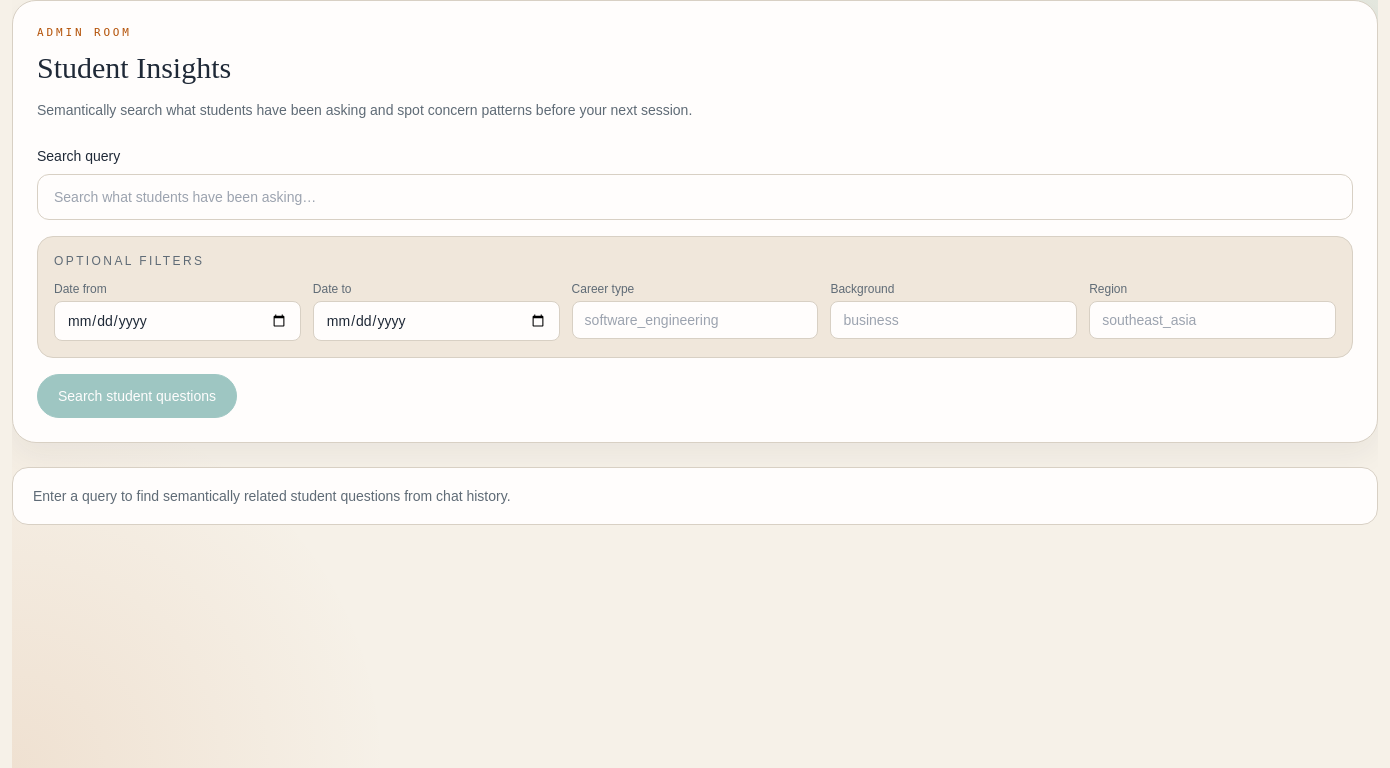
it: StudentInsightsTab › renders result cards with provenance and chips
Type "product interview prep" into the field labelled "Search query" at (695, 196), box x1=37 y1=174 x2=1353 y2=220
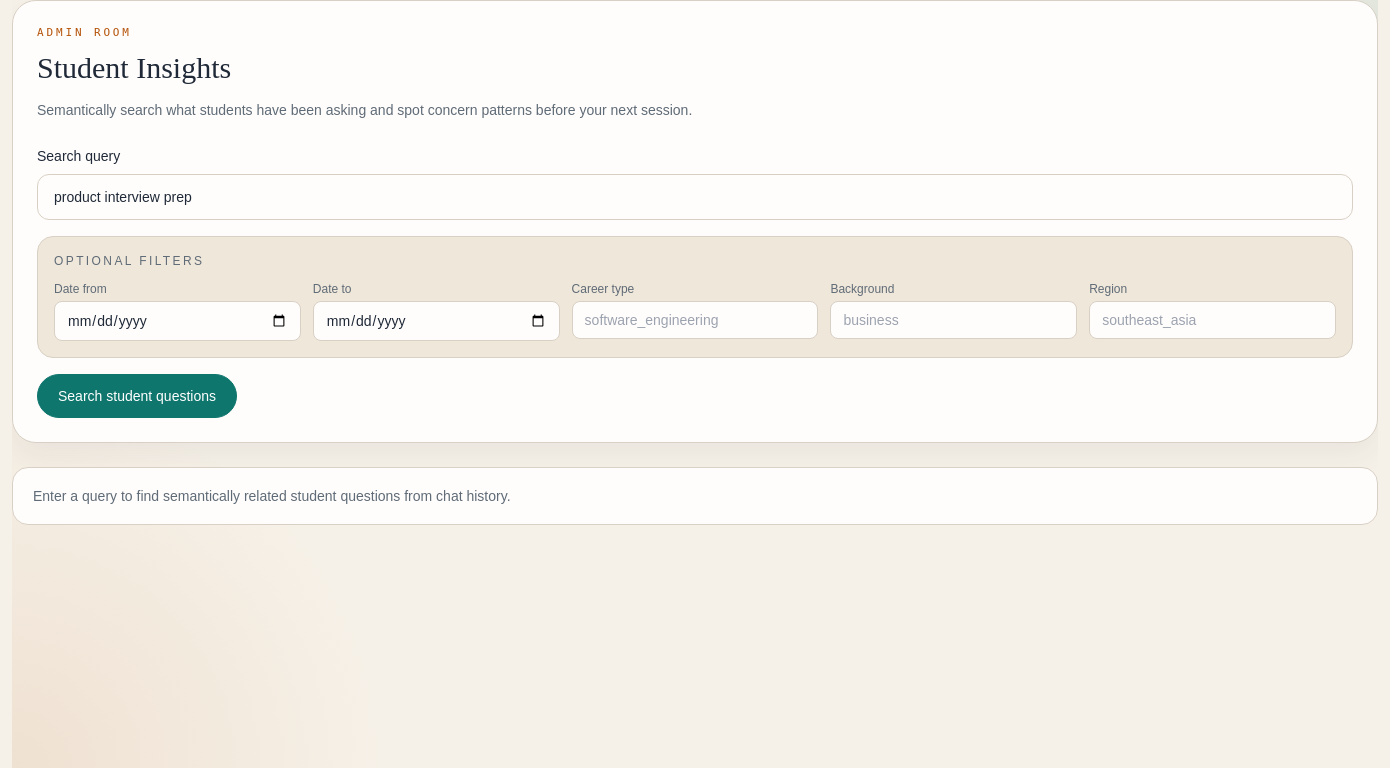
Click the button "Search student questions" at (137, 396), box x1=37 y1=374 x2=237 y2=418
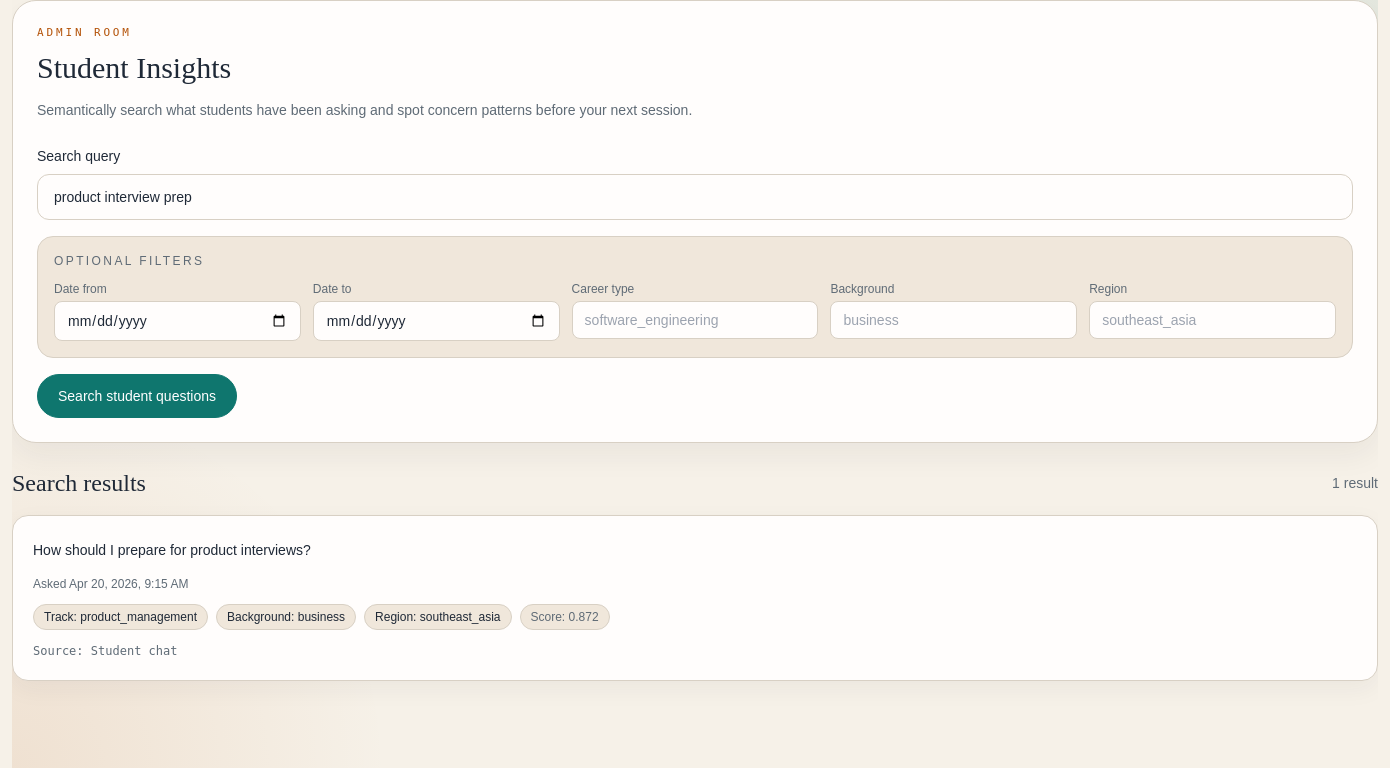
Expected: the text "How should I prepare for product interviews?" is shown, x1=33 y1=542 x2=311 y2=558
Expected: the text "Track: product_management" is shown, x1=33 y1=604 x2=208 y2=630
Expected: the text "Background: business" is shown, x1=216 y1=604 x2=356 y2=630
